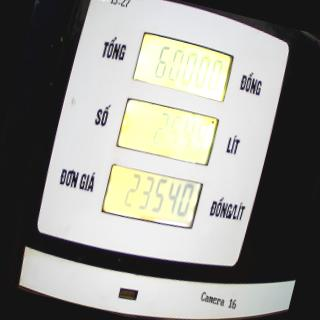screen: (97, 26, 238, 240)
